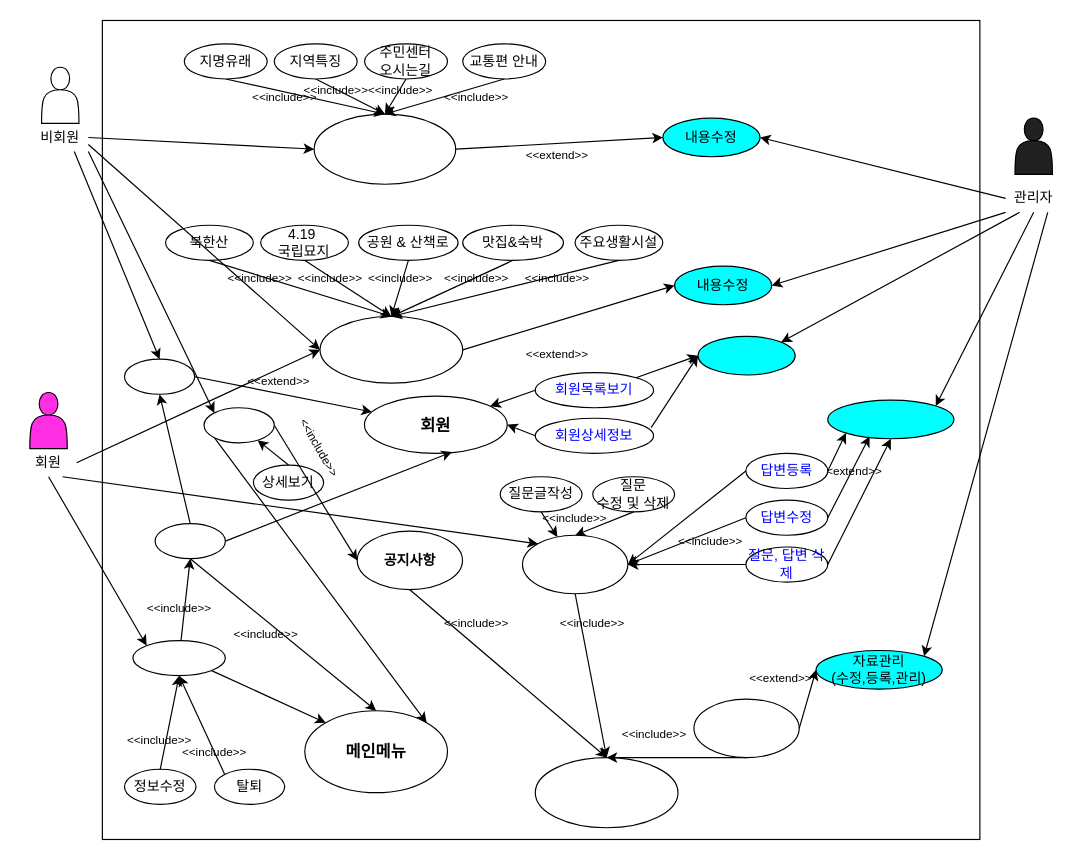
Image size: 1081x860. Some labels were removed from this diagram. The shapes that lost their labels are listed below. From the top down, each one's centre as x and y in pixels, then its label:
At point 384,148: "지역소개".
At point 391,349: "지역안내".
At point 746,355: "회원관리".
At point 159,376: "회원가입".
At point 238,425: "목록보기".
At point 890,419: "질문,답변 관리".
At point 189,540: "로그인".
At point 574,564: "묻고 답하기".
At point 178,657: "마이페이지".
At point 746,728: "자료실".
At point 606,792: "커뮤니티".
